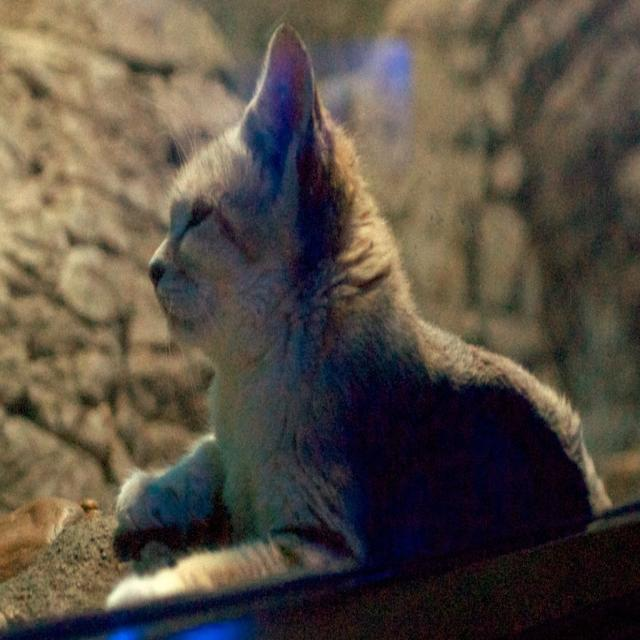Cat: (106, 17, 614, 612)
